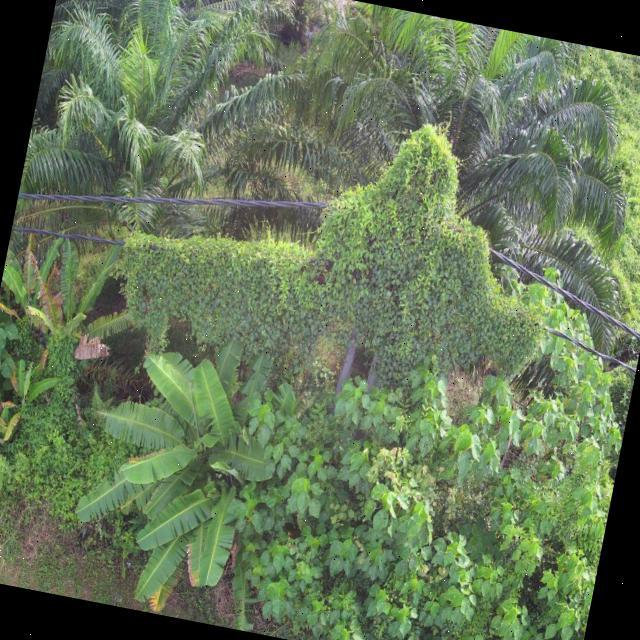critical vegetation: (93, 58, 592, 440)
